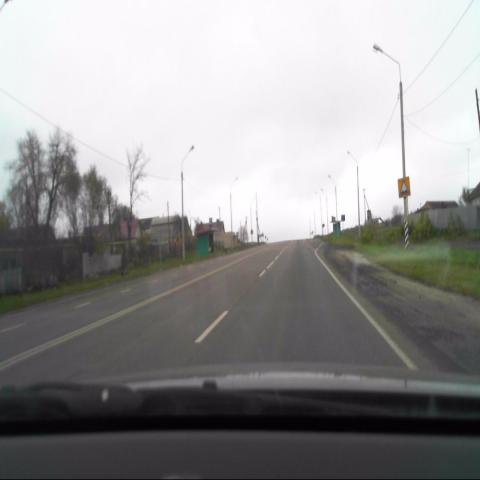1_16: (397, 176, 410, 199)
